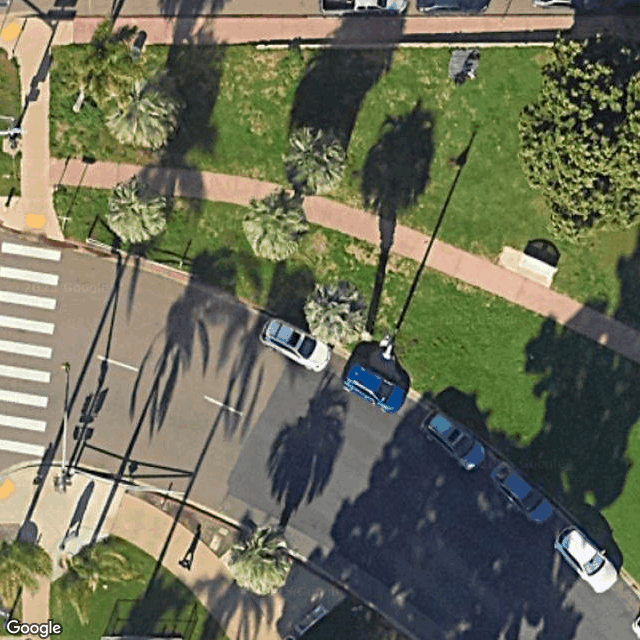palm: (101, 69, 189, 155), (236, 190, 314, 267), (298, 280, 386, 348), (224, 524, 297, 601), (282, 121, 348, 201), (104, 175, 171, 249)
